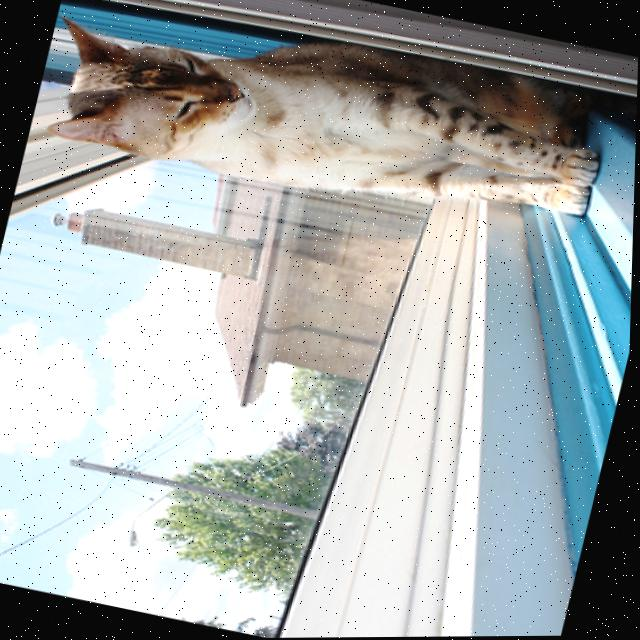Bengal: (25, 0, 639, 270)
